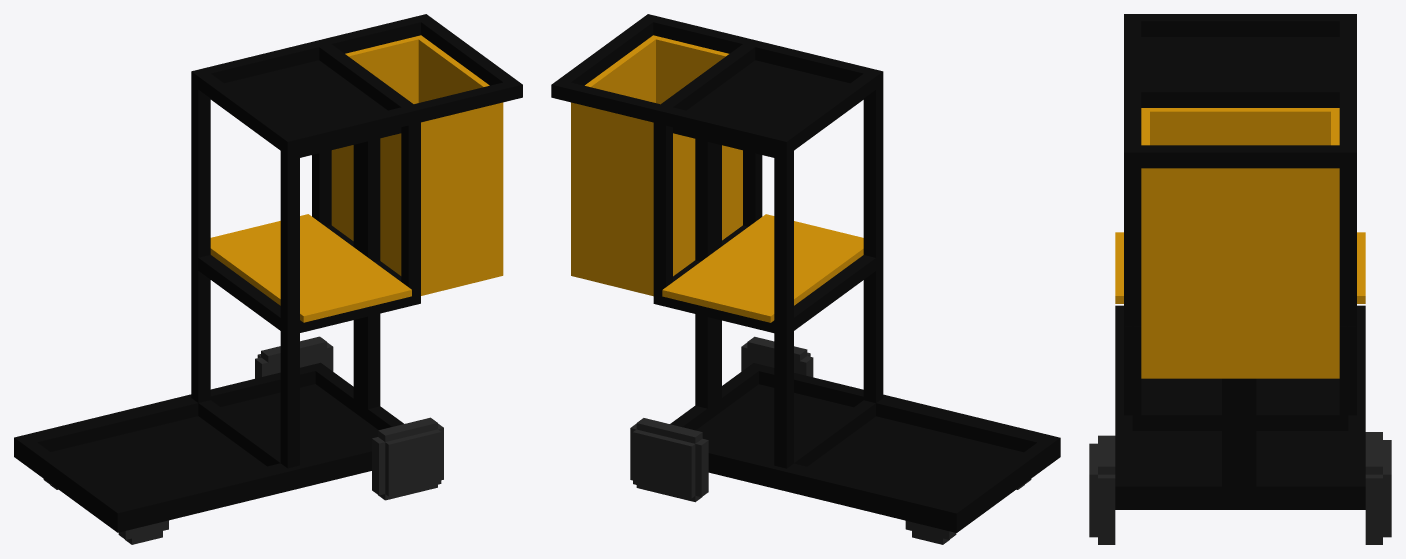
The model's file is Cleaning cart.fbx.
3 renders of one model, left to right at view 1: azimuth 30°, elevation 25°; view 2: azimuth 150°, elevation 25°; view 3: azimuth 270°, elevation 25°, orthographic. The views are drawn at different scales.
Visible parts, largest first — view 1: Cleaning cart; view 2: Cleaning cart; view 3: Cleaning cart.
Boxes of the visible parts, x1,y1,x2,y2 form: Cleaning cart: (14, 14, 522, 544); Cleaning cart: (551, 14, 1060, 544); Cleaning cart: (1089, 14, 1391, 544).
Size of the model in its own units: 1.14 by 0.9935 by 0.606.
